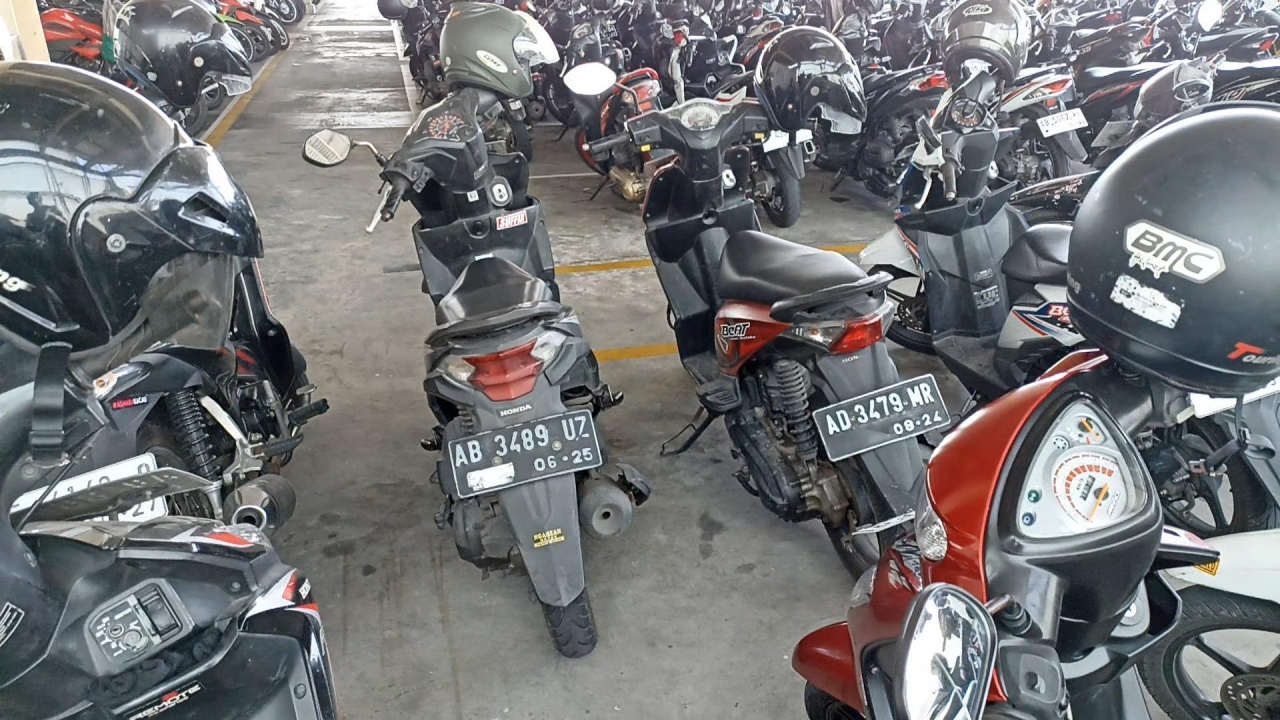plate: (448, 408, 604, 498), (812, 374, 951, 462)
